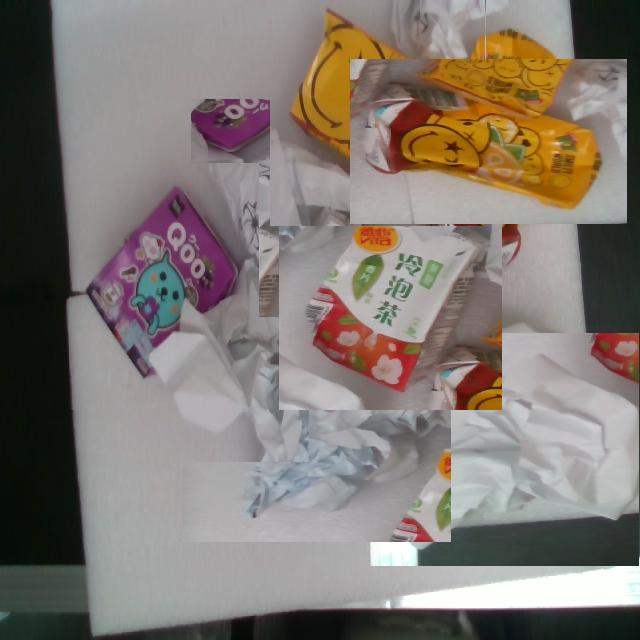juicebox: (44, 164, 288, 410), (249, 0, 498, 226), (278, 171, 502, 415), (349, 60, 628, 252)
paper: (369, 305, 640, 618), (191, 99, 441, 324), (182, 353, 454, 548), (104, 242, 324, 462), (416, 0, 486, 110)
